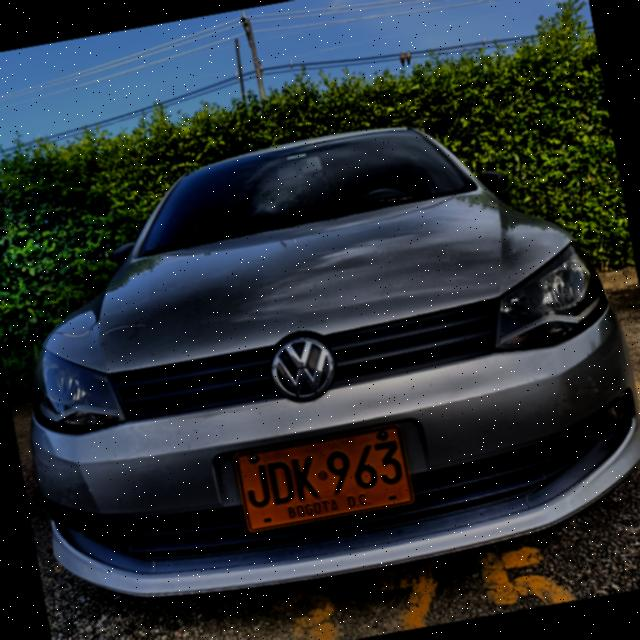plate: (235, 425, 412, 530)
